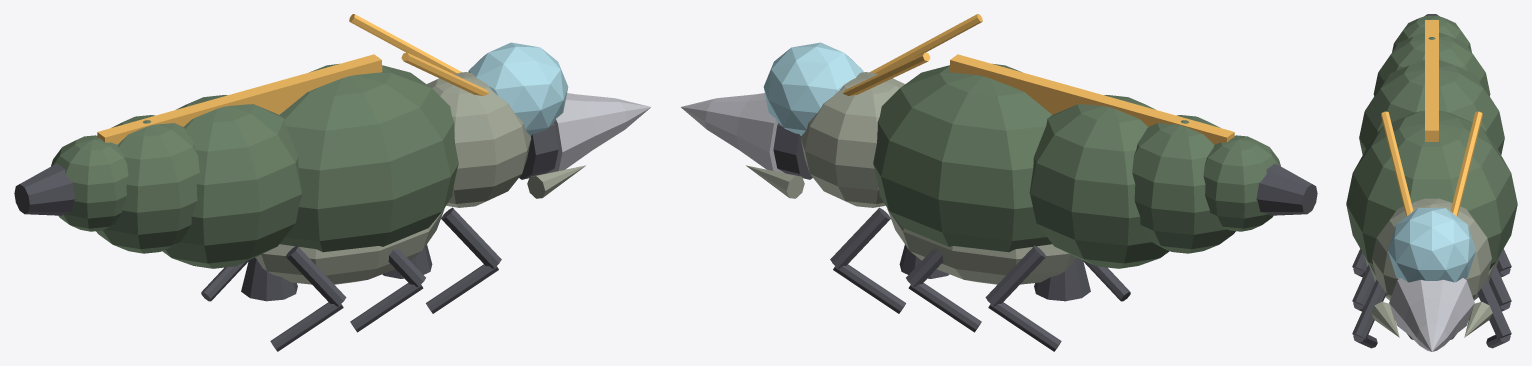
File: insektoid_pod.fbx
3 views of the same model, side by side, from view 1: azimuth 30°, elevation 25°; view 2: azimuth 150°, elevation 25°; view 3: azimuth 270°, elevation 25° (orthographic). The views are drawn at different scales.
Parts seen in each view (by area): view 1: Thorax__Skin_Primary, Abdomen1__Skin_Primary, Abdomen2__Skin_Primary, Head__Skin_Secondary, Legs__Pod_Dark, Canopy__Pod_Glass, Abdomen3__Skin_Primary, Trim__Skin_Accent, Nozzles__Pod_Dark, Belly__Skin_Secondary, Drill__Pod_Drill, Antennae__Skin_Accent (+2 smaller); view 2: Thorax__Skin_Primary, Abdomen1__Skin_Primary, Abdomen2__Skin_Primary, Head__Skin_Secondary, Legs__Pod_Dark, Canopy__Pod_Glass, Abdomen3__Skin_Primary, Trim__Skin_Accent, Nozzles__Pod_Dark, Belly__Skin_Secondary, Drill__Pod_Drill, Antennae__Skin_Accent (+2 smaller); view 3: Thorax__Skin_Primary, Abdomen1__Skin_Primary, Canopy__Pod_Glass, Drill__Pod_Drill, Legs__Pod_Dark, Head__Skin_Secondary, Abdomen2__Skin_Primary, Antennae__Skin_Accent, Trim__Skin_Accent, Mandibles__Skin_Secondary, Abdomen3__Skin_Primary, Belly__Skin_Secondary.
Boxes of the visible parts, bbox=[...] form: Thorax__Skin_Primary: bbox=[279, 63, 458, 252]; Abdomen1__Skin_Primary: bbox=[162, 95, 302, 268]; Abdomen2__Skin_Primary: bbox=[96, 115, 199, 253]; Head__Skin_Secondary: bbox=[427, 72, 531, 207]; Legs__Pod_Dark: bbox=[201, 207, 501, 351]; Canopy__Pod_Glass: bbox=[468, 42, 568, 135]; Abdomen3__Skin_Primary: bbox=[51, 135, 128, 231]; Trim__Skin_Accent: bbox=[97, 54, 382, 144]; Nozzles__Pod_Dark: bbox=[14, 163, 432, 301]; Belly__Skin_Secondary: bbox=[255, 208, 444, 284]; Drill__Pod_Drill: bbox=[547, 93, 650, 173]; Antennae__Skin_Accent: bbox=[349, 14, 488, 95]; Thorax__Skin_Primary: bbox=[873, 63, 1052, 252]; Abdomen1__Skin_Primary: bbox=[1029, 95, 1169, 268]; Abdomen2__Skin_Primary: bbox=[1132, 115, 1235, 253]; Head__Skin_Secondary: bbox=[800, 72, 904, 207]; Legs__Pod_Dark: bbox=[830, 207, 1130, 351]; Canopy__Pod_Glass: bbox=[763, 42, 863, 135]; Abdomen3__Skin_Primary: bbox=[1203, 135, 1280, 231]; Trim__Skin_Accent: bbox=[949, 54, 1234, 144]; Nozzles__Pod_Dark: bbox=[899, 163, 1317, 301]; Belly__Skin_Secondary: bbox=[887, 208, 1076, 284]; Drill__Pod_Drill: bbox=[681, 93, 784, 173]; Antennae__Skin_Accent: bbox=[843, 14, 982, 95]; Thorax__Skin_Primary: bbox=[1346, 111, 1517, 270]; Abdomen1__Skin_Primary: bbox=[1359, 60, 1504, 154]; Canopy__Pod_Glass: bbox=[1388, 208, 1475, 282]; Drill__Pod_Drill: bbox=[1389, 278, 1474, 351]; Legs__Pod_Dark: bbox=[1352, 249, 1511, 348]; Head__Skin_Secondary: bbox=[1372, 198, 1491, 298]; Abdomen2__Skin_Primary: bbox=[1373, 32, 1490, 96]; Antennae__Skin_Accent: bbox=[1381, 111, 1482, 215]; Trim__Skin_Accent: bbox=[1425, 20, 1438, 141]; Mandibles__Skin_Secondary: bbox=[1371, 301, 1492, 337]; Abdomen3__Skin_Primary: bbox=[1392, 15, 1471, 51]; Belly__Skin_Secondary: bbox=[1364, 256, 1499, 300].
Bounding box in the file's own units: 750 × 295 × 200.
